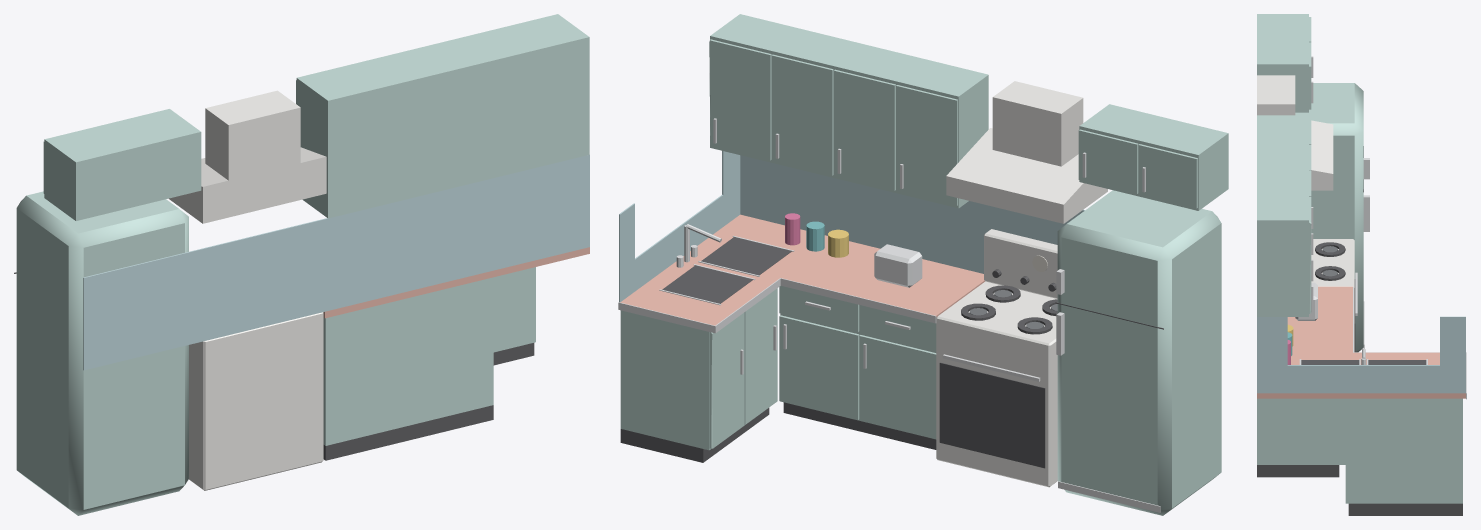
File: kitchen.glb
3 renders of one model, left to right at view 1: azimuth 30°, elevation 25°; view 2: azimuth 150°, elevation 25°; view 3: azimuth 270°, elevation 25°, orthographic. The views are drawn at different scales.
Parts seen in each view (by area): view 1: kitchen_cab_t, kitchen_tile_b, kitchen_enamel, kitchen_dark, kitchen_formica; view 2: kitchen_cab_t, kitchen_enamel, kitchen_tile_b, kitchen_dark, kitchen_formica, kitchen_chrome; view 3: kitchen_cab_t, kitchen_tile_b, kitchen_formica, kitchen_enamel, kitchen_dark, kitchen_chrome.
Part boxes in pixels (box(x1,y1,x2,y2)): kitchen_cab_t: box(16, 14, 589, 515); kitchen_tile_b: box(83, 154, 589, 370); kitchen_enamel: box(169, 90, 326, 490); kitchen_dark: box(14, 272, 534, 460); kitchen_formica: box(323, 247, 589, 318); kitchen_cab_t: box(620, 14, 1228, 515); kitchen_enamel: box(936, 81, 1107, 487); kitchen_tile_b: box(619, 151, 1084, 302); kitchen_dark: box(620, 237, 1163, 468); kitchen_formica: box(620, 214, 984, 325); kitchen_chrome: box(618, 118, 1160, 512); kitchen_cab_t: box(1257, 14, 1462, 503); kitchen_tile_b: box(1257, 316, 1465, 393); kitchen_formica: box(1257, 286, 1465, 398); kitchen_enamel: box(1257, 75, 1354, 352); kitchen_dark: box(1257, 146, 1462, 515); kitchen_chrome: box(1295, 56, 1466, 399).
Bounding box in the file's own units: 3.2 × 2.15 × 1.38.
